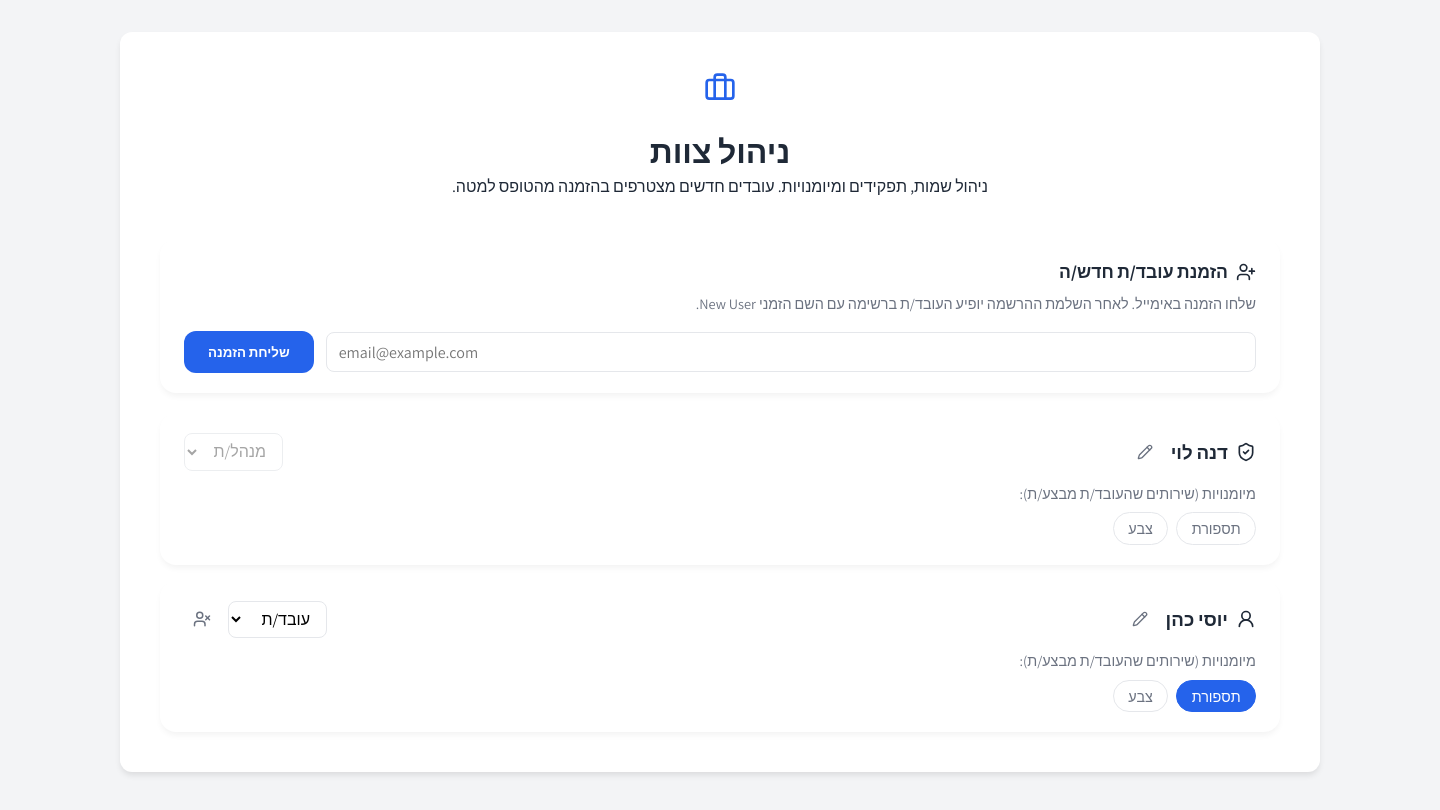
Scenario: TeamPage › inviting a staff member › sends an invite and shows a success message
Expected: the heading "דנה לוי" is shown, [1171,438,1228,466]
Type "new@salon.com" into the field named "אימייל להזמנה". click: (791, 352)
box: [326,332,1256,372]
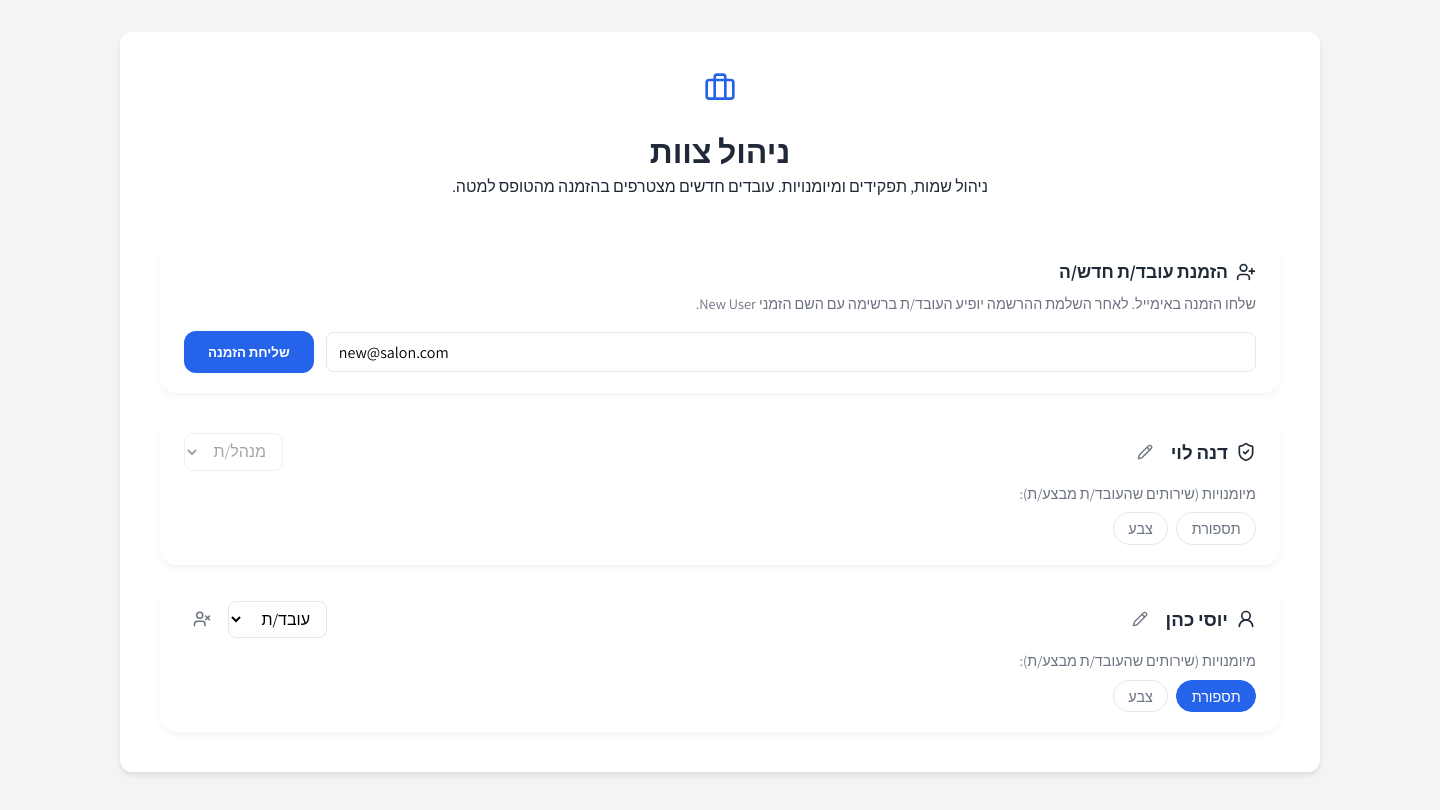
Click the button "שליחת הזמנה". click: (249, 352)
box: [184,331,314,373]
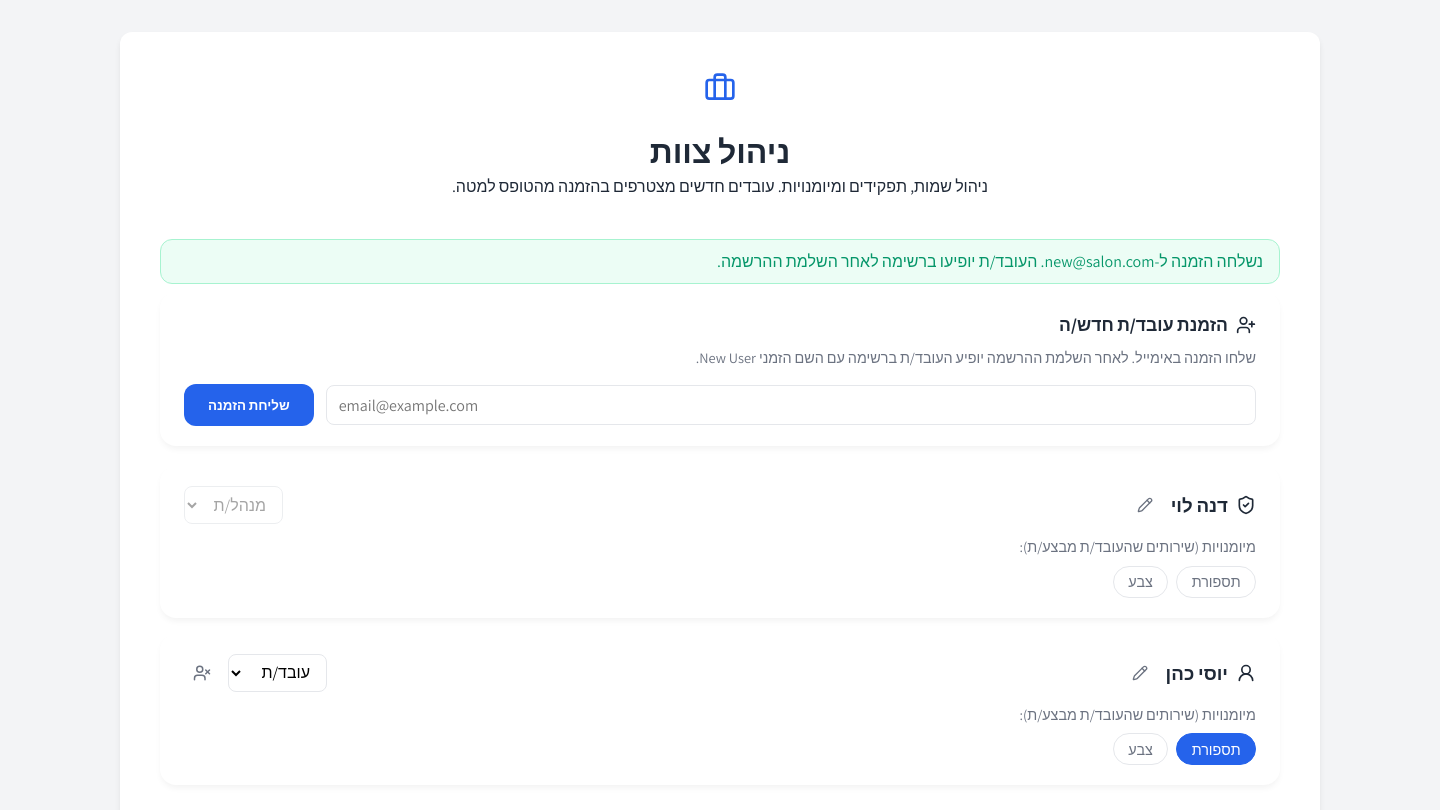
Now the text "נשלחה הזמנה ל-new@salon.com. העובד/ת יופיעו ברשימה לאחר השלמת ההרשמה." is shown, box [160,239,1280,284]
Now the field named "אימייל להזמנה" is empty, box [326,385,1256,425]
